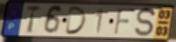1: (94, 9, 104, 34)
6: (41, 4, 64, 37)
D: (63, 6, 88, 36)
F: (113, 7, 137, 36)
S: (134, 7, 157, 38)
T: (25, 5, 43, 35)
